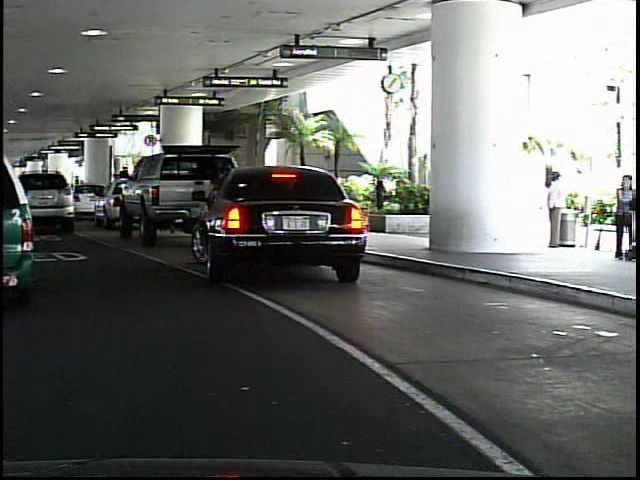person: (606, 172, 637, 267)
